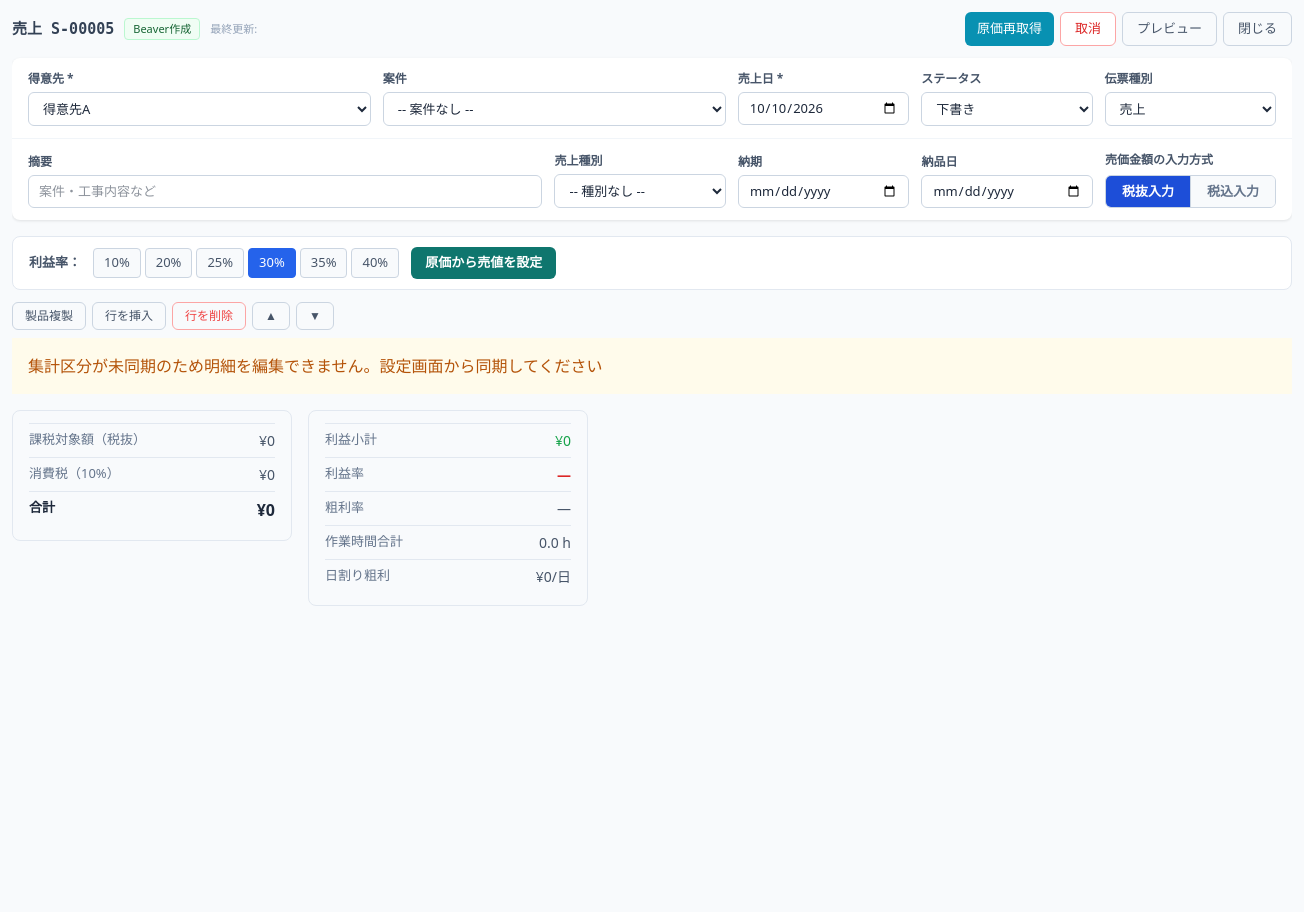
Scenario: R-0164 伝票ヘッダーの自動保存と離脱警告 › 摘要はフォーカスを外すと1回保存され、保存済み時刻を表示する
Check: the date field showing "2026-10-10" below "売上日 *" is shown, box x1=738 y1=92 x2=909 y2=125
Type "山田様邸" into the field named "description" at {"x": 285, "y": 191}, box x1=28 y1=174 x2=542 y2=208
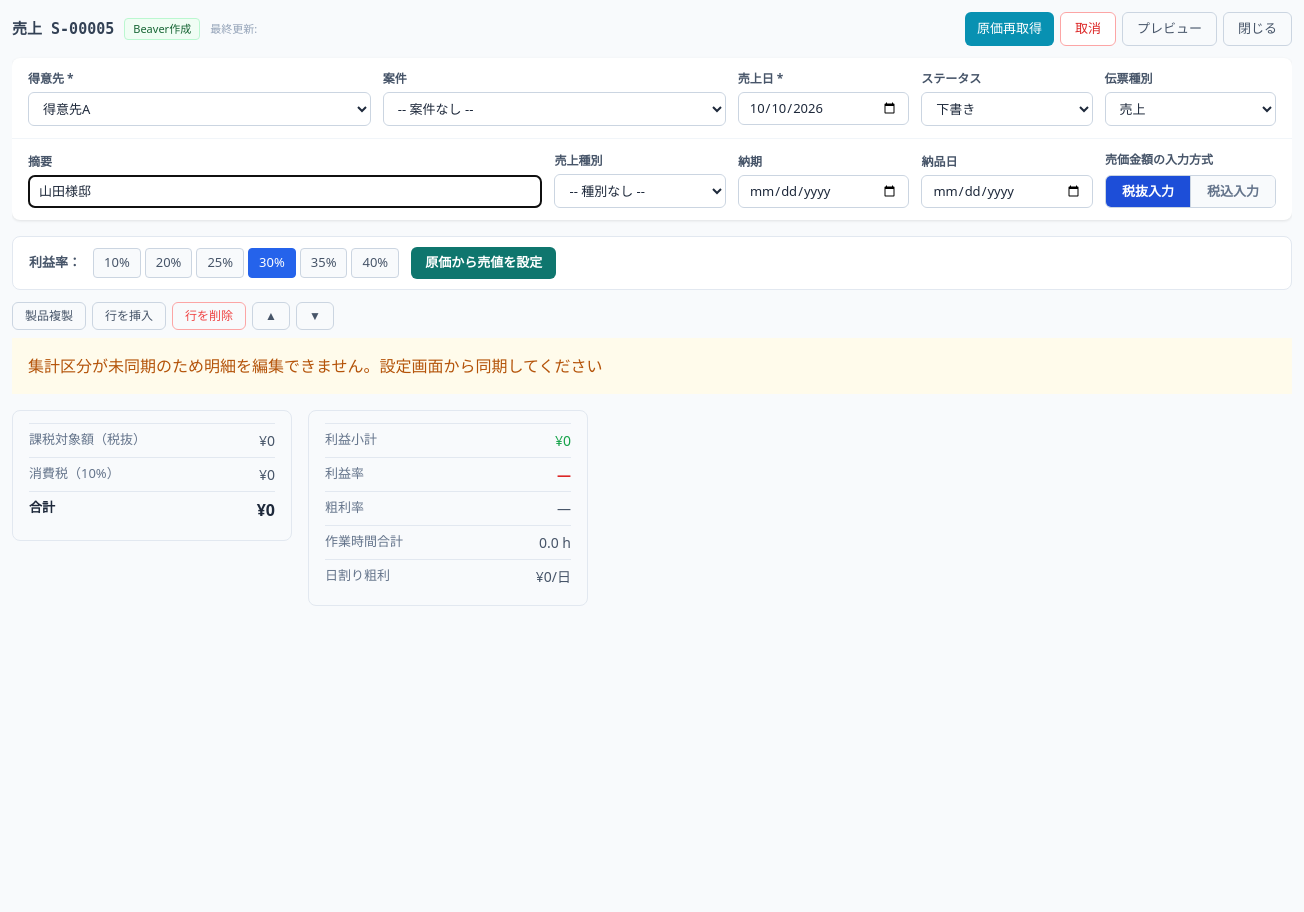
Press Tab
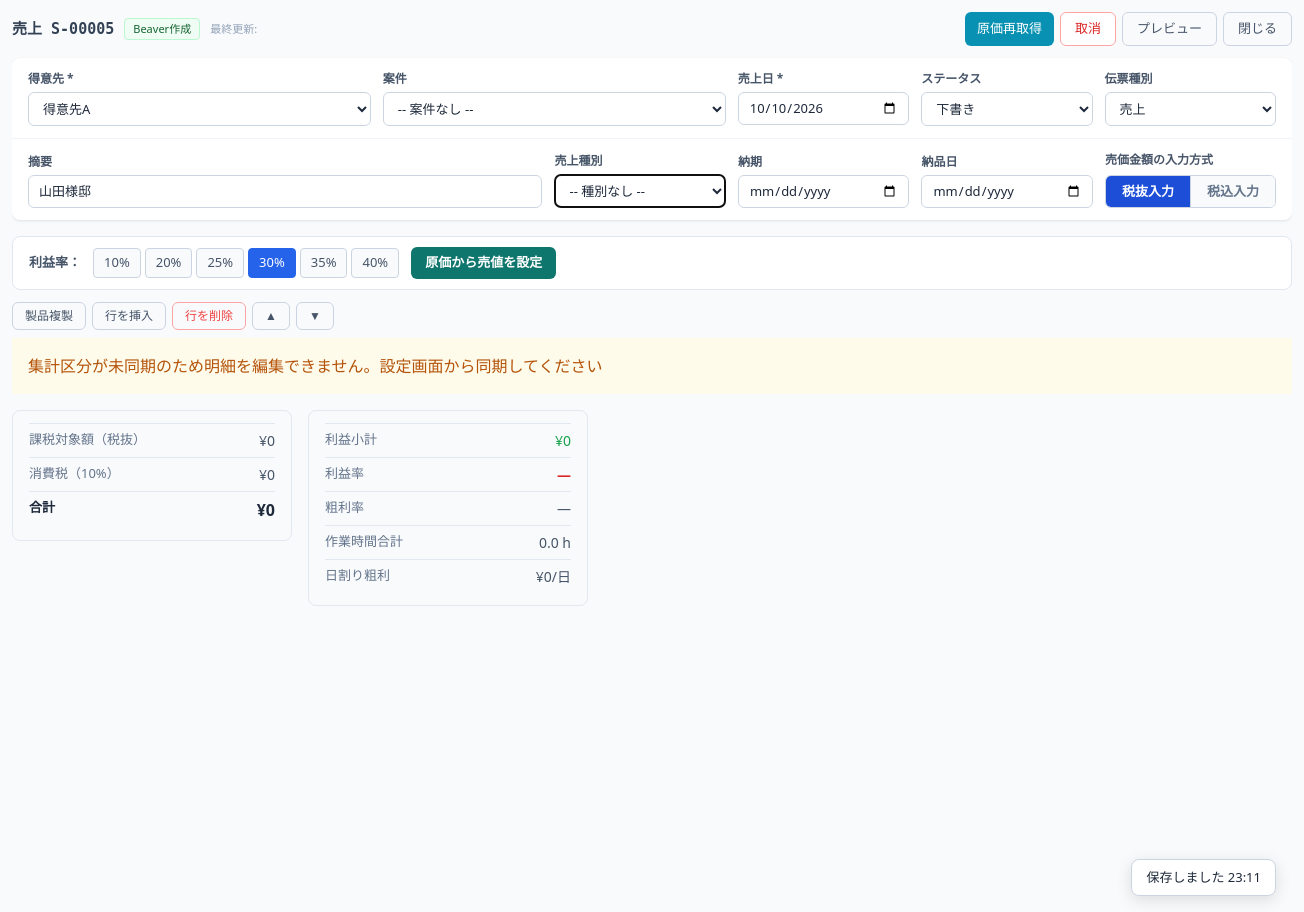
Check: the text "保存しました 23:11" is shown, box x1=1146 y1=868 x2=1261 y2=887
